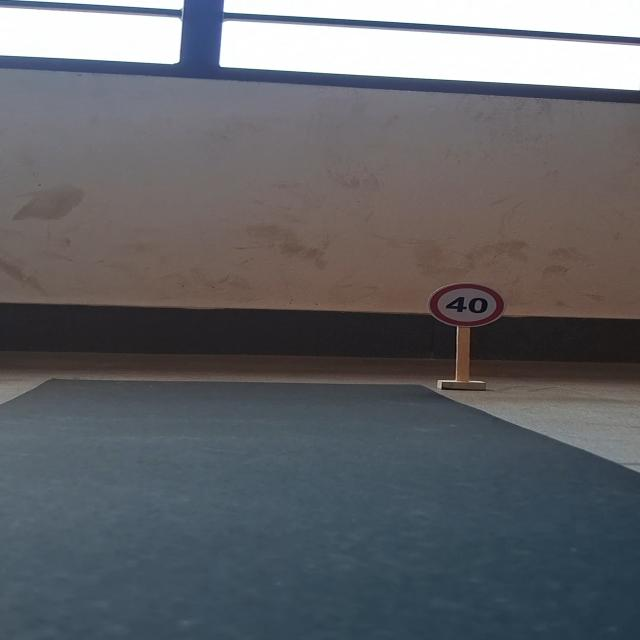Speed40: (425, 280, 508, 329)
